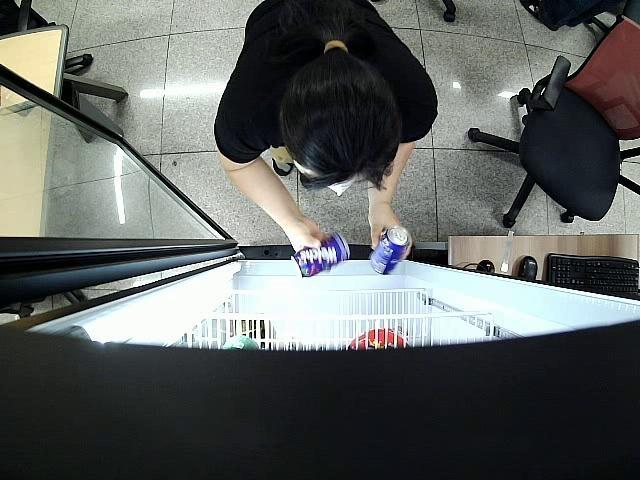14_welchsGrape: (291, 231, 350, 278), (370, 226, 411, 274)
